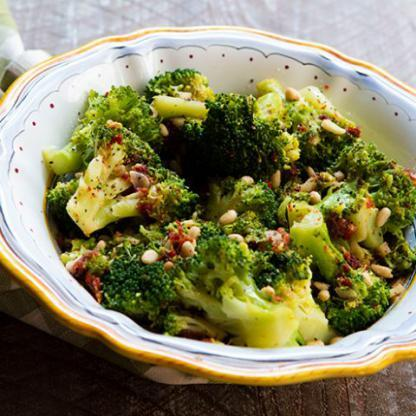broccoli: (43, 68, 416, 350)
